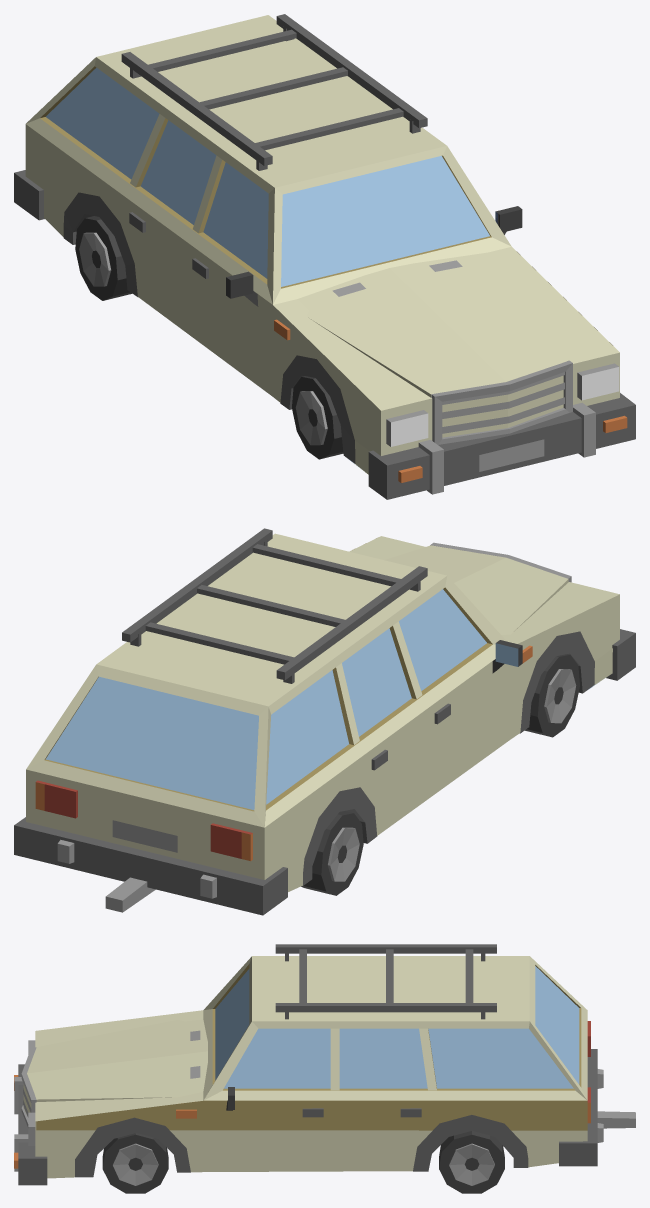
File: transport_old_002.fbx
3 renders of one model, top to bottom at view 1: azimuth 30°, elevation 25°; view 2: azimuth 150°, elevation 25°; view 3: azimuth 270°, elevation 25°, orthographic. The views are drawn at different scales.
Parts seen in each view (by area): view 1: transport_old_002; view 2: transport_old_002; view 3: transport_old_002.
Part boxes in pixels (<box>): transport_old_002: <box>14,14,635,499</box>; transport_old_002: <box>14,528,635,915</box>; transport_old_002: <box>14,944,635,1193</box>.
Bounding box in the file's own units: 148 × 107 × 351.
